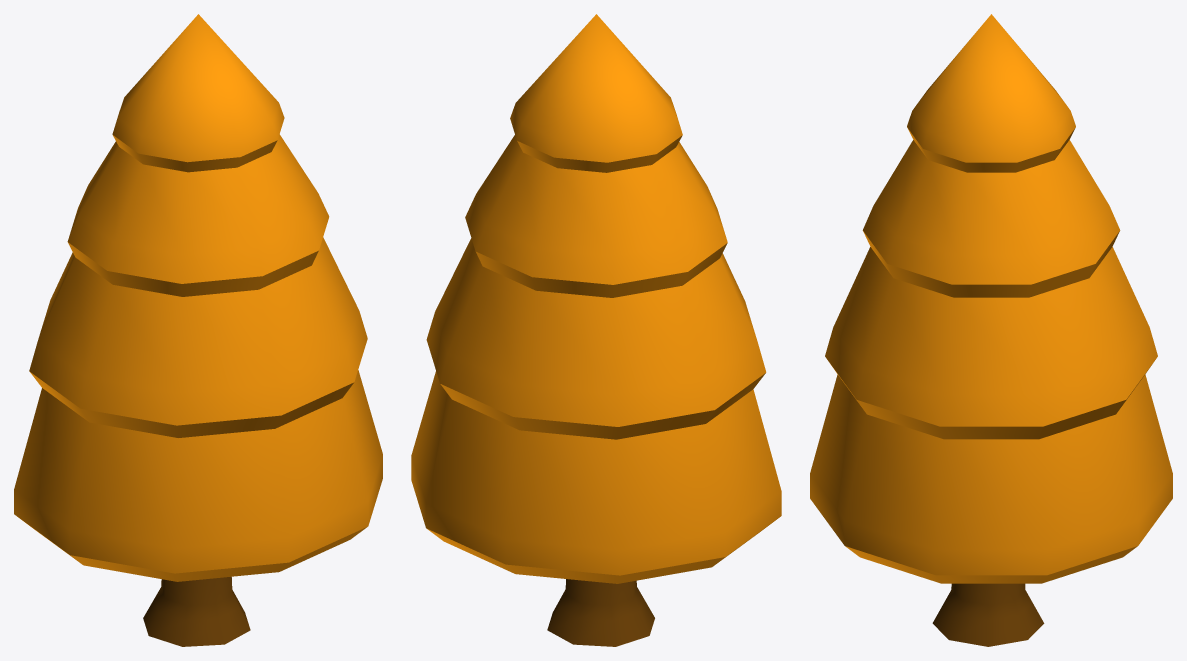
The model's file is auutumntree02.fbx.
3 renders of one model, left to right at view 1: azimuth 30°, elevation 25°; view 2: azimuth 150°, elevation 25°; view 3: azimuth 270°, elevation 25°, orthographic.
Parts seen in each view (by area): view 1: PineTree_Dark; view 2: PineTree_Dark; view 3: PineTree_Dark.
Boxes of the visible parts, x1,y1,x2,y2 form: PineTree_Dark: (14, 14, 382, 646); PineTree_Dark: (411, 14, 781, 646); PineTree_Dark: (810, 14, 1172, 646).
Size of the model in its own units: 2.47 by 4.58 by 2.47.
